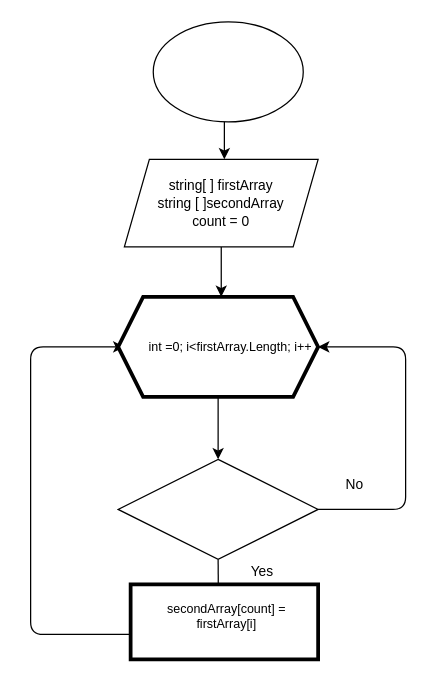
Image size: 438x683. Some labels were removed from this diagram. The shapes that lost their labels are listed below. From the top down, each one's centre as x and y in pixels, then its label:
pixel 227 71: GetSecondArray
pixel 217 508: firstArray[i] .Length <=3
